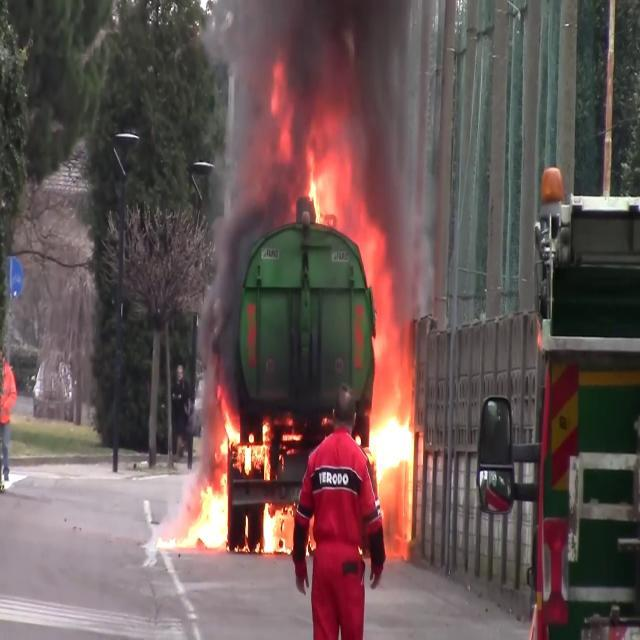Fire: (177, 398, 289, 556), (364, 320, 422, 500), (302, 118, 373, 249)
Smoke: (202, 0, 440, 278)
